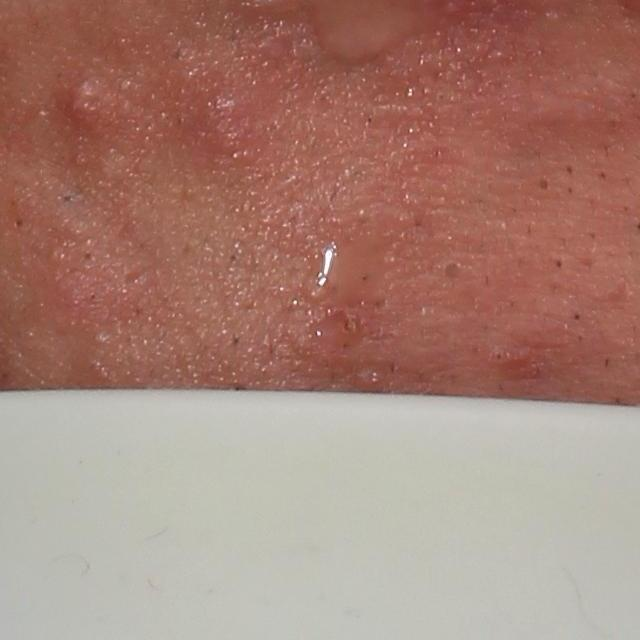comedo: (437, 256, 469, 287), (533, 175, 555, 195), (570, 312, 583, 326)
papule: (191, 92, 258, 166), (487, 330, 563, 394), (62, 67, 111, 128)
